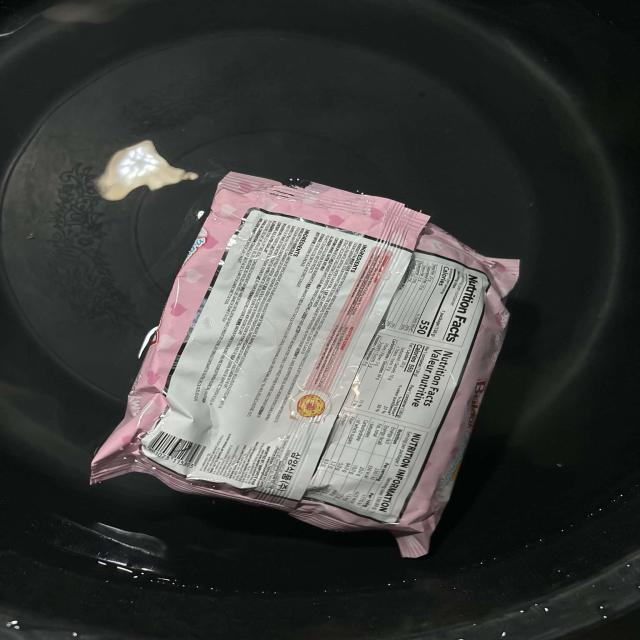Plastic Wrapper: (73, 155, 552, 574)
